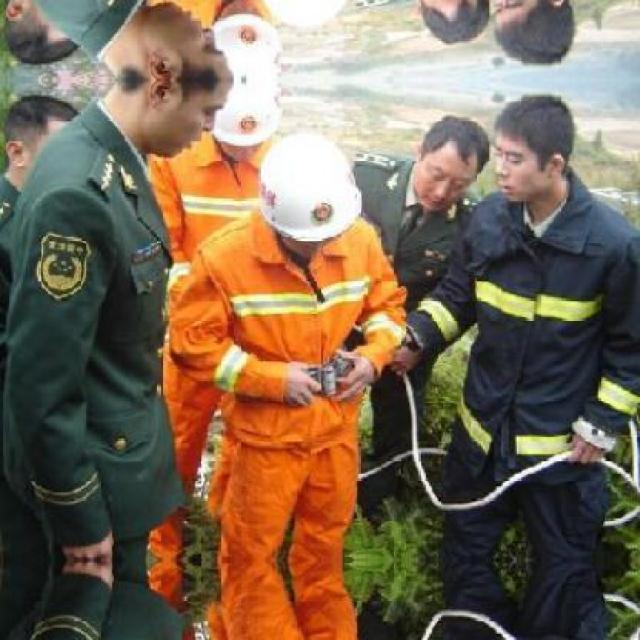reflective_jacket: (419, 201, 635, 481), (197, 223, 400, 466)
safety_helmet: (0, 0, 286, 74), (241, 121, 375, 249), (204, 87, 287, 150)
